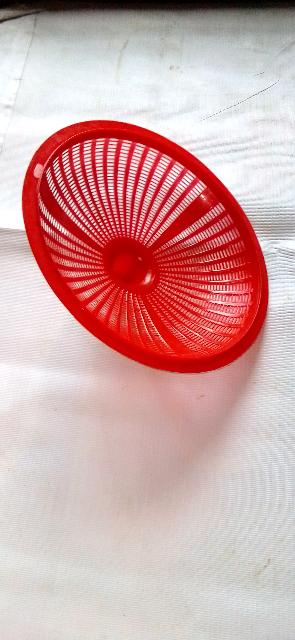hardplastic: (26, 118, 264, 366)
